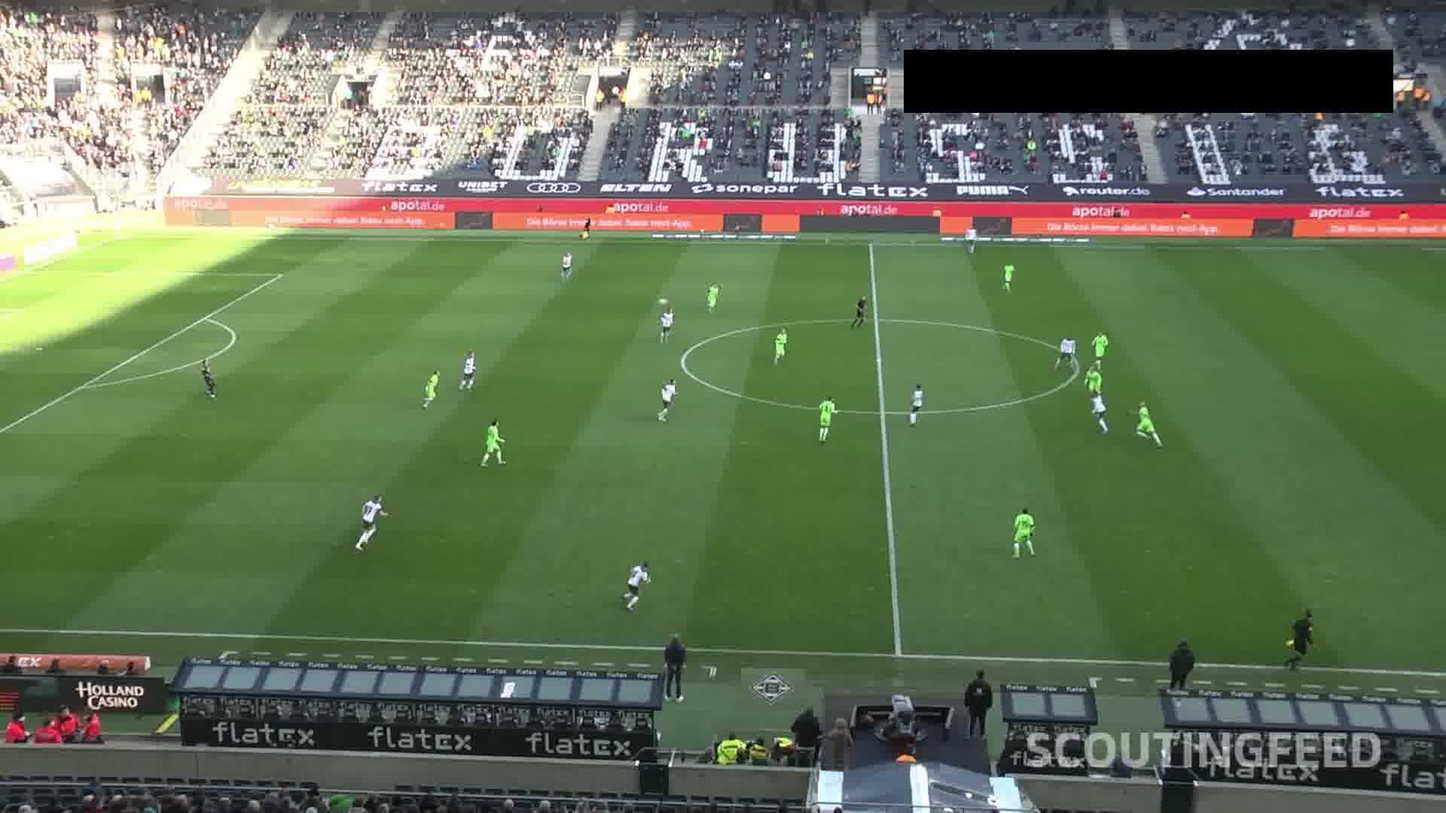ball: (654, 294, 672, 308)
coach_staff: (665, 632, 695, 703), (967, 670, 997, 733), (1169, 637, 1197, 704)
goalkeeper: (187, 348, 233, 410)
player: (346, 486, 388, 555), (1000, 501, 1045, 561), (619, 556, 655, 616), (650, 379, 688, 428), (478, 417, 510, 471), (1135, 397, 1166, 448), (899, 384, 931, 433), (1087, 387, 1117, 434), (813, 391, 838, 446), (653, 308, 686, 345), (1051, 329, 1078, 371), (994, 257, 1023, 296), (774, 318, 795, 371), (421, 362, 441, 415), (460, 347, 481, 389), (703, 278, 725, 318), (1093, 329, 1114, 367), (964, 220, 982, 256), (1088, 365, 1108, 396), (561, 251, 577, 284)
referee: (1281, 602, 1324, 673), (851, 290, 871, 330), (576, 216, 595, 243)
